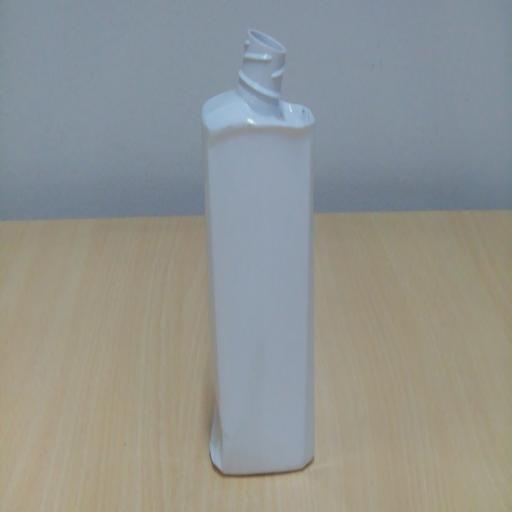Bad: (192, 17, 332, 495)
